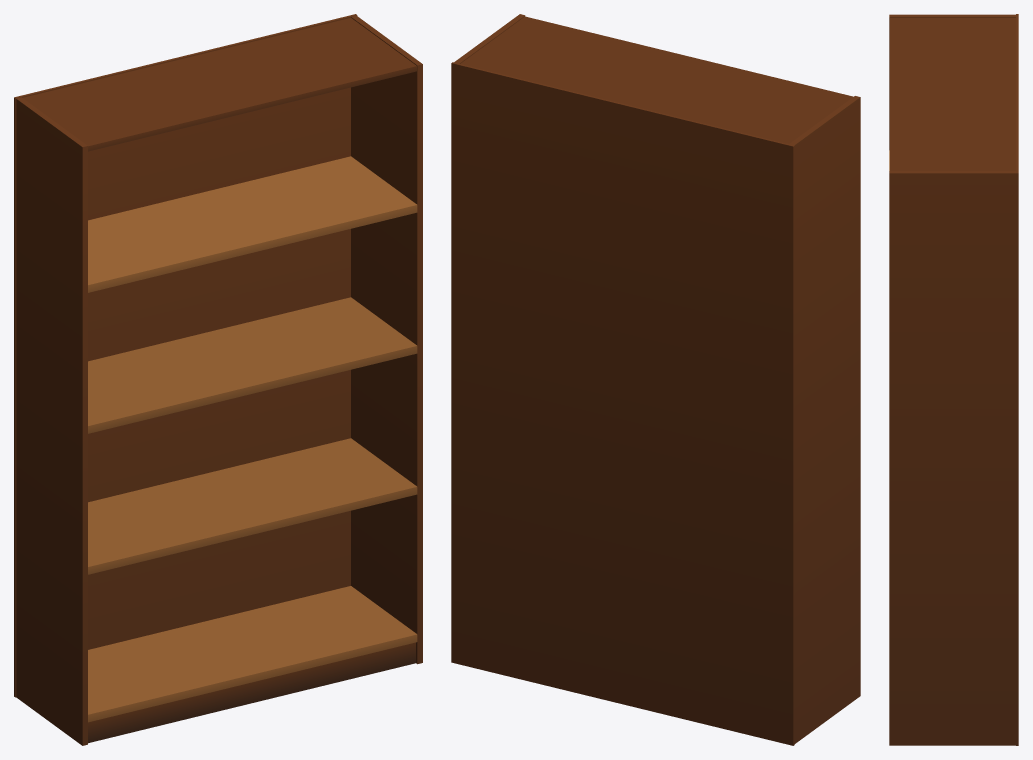
Rendered from Prop_Shelf_02.obj.
3 renders of one model, left to right at view 1: azimuth 30°, elevation 25°; view 2: azimuth 150°, elevation 25°; view 3: azimuth 270°, elevation 25°, orthographic. The views are drawn at different scales.
Visible parts, largest first — view 1: Prop_Shelf_02; view 2: Prop_Shelf_02; view 3: Prop_Shelf_02.
Part boxes in pixels (box(x1,y1,x2,y2)): Prop_Shelf_02: box(14, 14, 422, 745); Prop_Shelf_02: box(451, 14, 860, 745); Prop_Shelf_02: box(889, 14, 1018, 745).
Size of the model in its own units: 0.8 by 1.34 by 0.275.
1 material, 1 textured.
